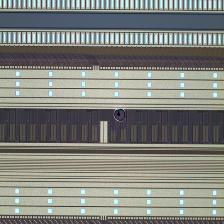BLOCK ETCH: (113, 108, 129, 124)
